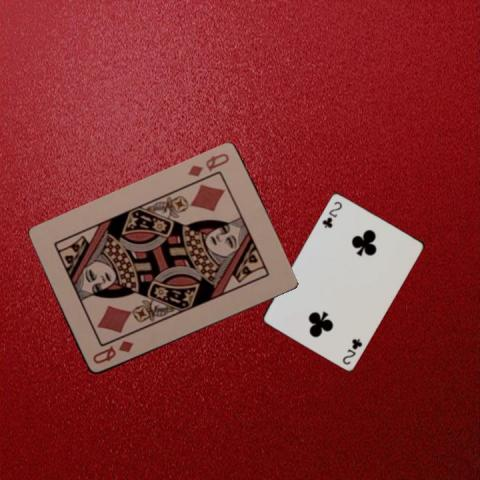2c: (320, 198, 344, 229), (340, 335, 364, 366)
Qd: (184, 150, 231, 179), (89, 337, 135, 366)
